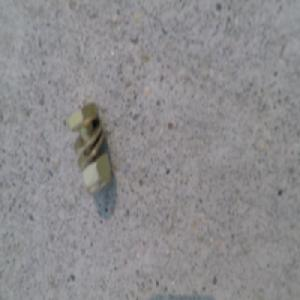BoltNutSet: (67, 100, 109, 191)
